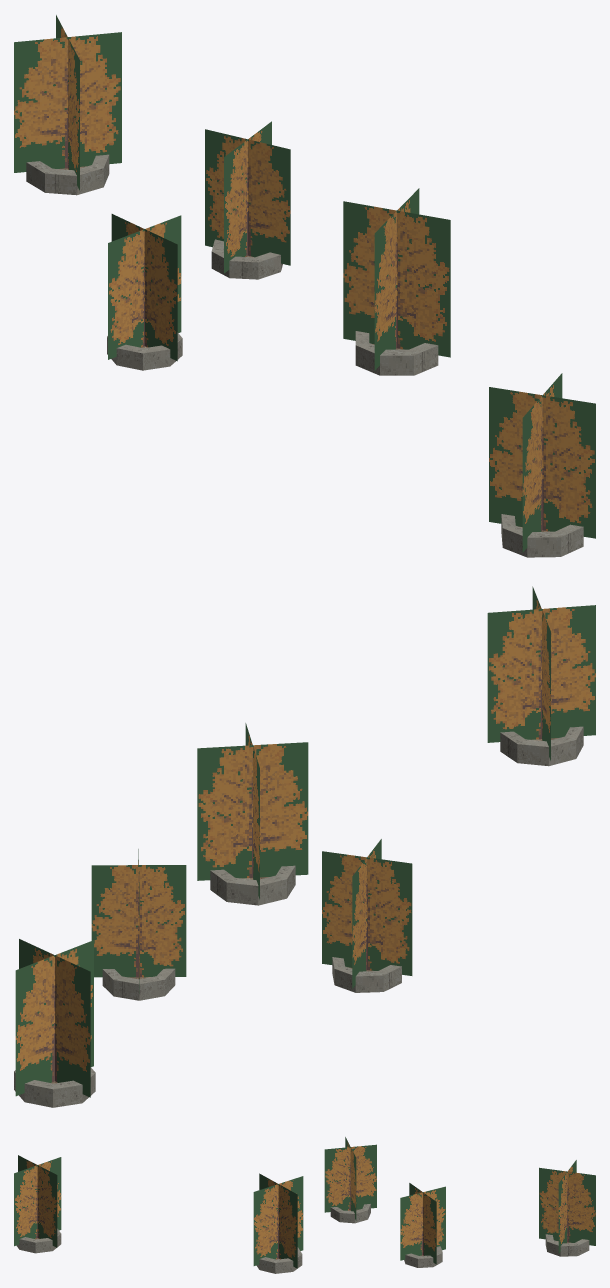
The model's file is procgen-procpain-tree-park-large-x2zm2.obj.
3 views of the same model, one above another, from view 1: azimuth 30°, elevation 25°; view 2: azimuth 150°, elevation 25°; view 3: azimuth 270°, elevation 25° (orthographic). The views are drawn at different scales.
Bounding box in the file's own units: 14.18 × 7.49 × 49.5.
